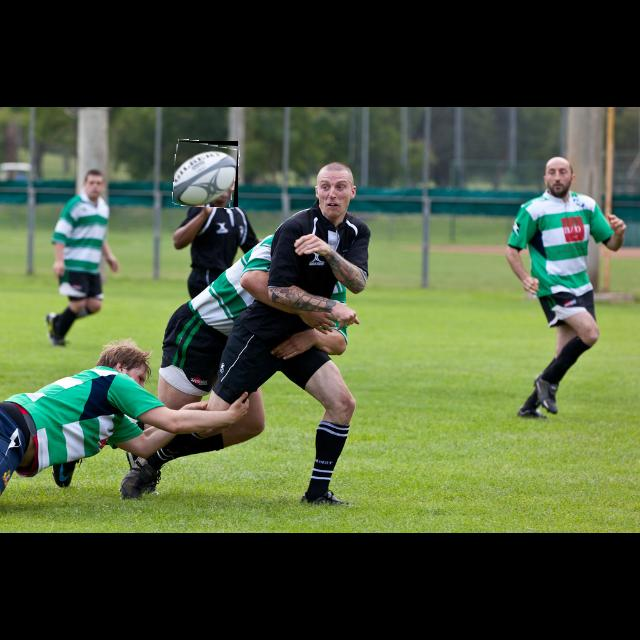Football: (174, 141, 238, 207)
